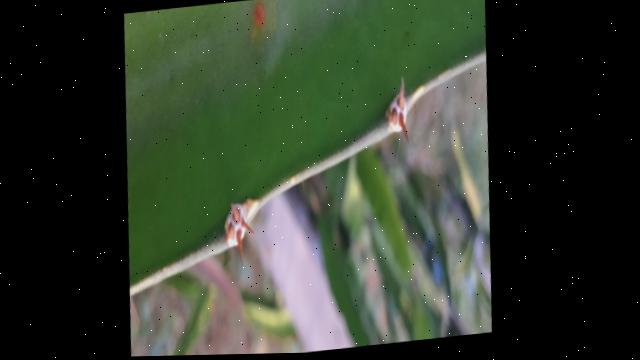stemcanker: (248, 0, 273, 43)
